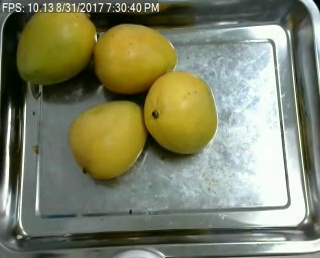Mango: (14, 2, 98, 85), (91, 22, 176, 96), (145, 70, 218, 155), (68, 101, 147, 178)
